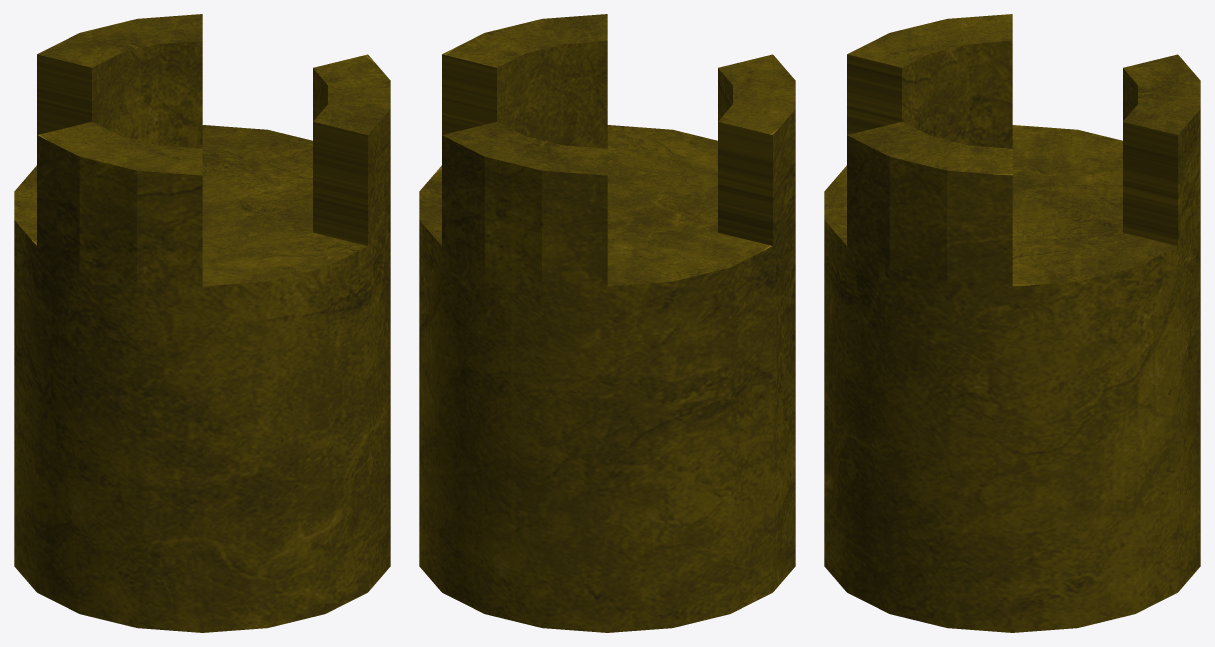
File: towerKey.obj
3 renders of one model, left to right at view 1: azimuth 30°, elevation 25°; view 2: azimuth 150°, elevation 25°; view 3: azimuth 270°, elevation 25°, orthographic.
Visible parts, largest first — view 1: key_right; view 2: key_right; view 3: key_right.
Boxes of the visible parts, x1,y1,x2,y2 form: key_right: (14,14,390,632); key_right: (419,14,795,632); key_right: (824,14,1200,632).
Bounding box in the file's own units: 16.35 × 21.58 × 16.1.
1 material, 1 textured.
